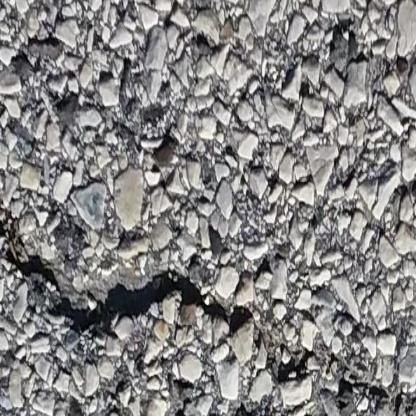Cracks: (0, 209, 246, 338)
